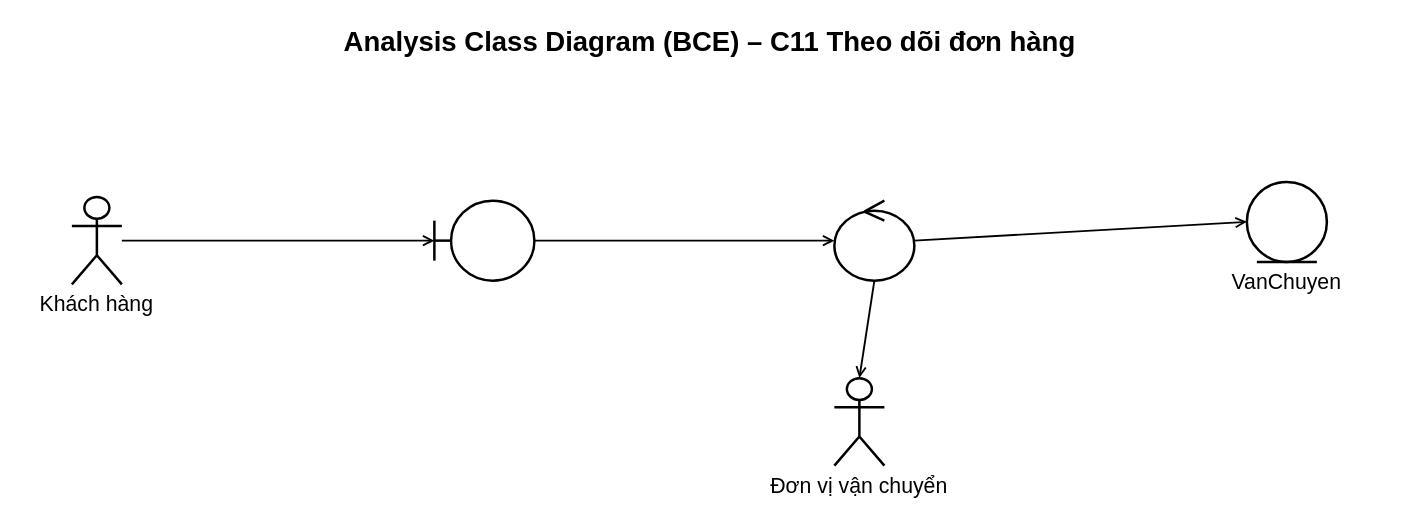
This 1418x520 diagram has some shape labels left out. The shapes that lost their labels are listed below. From the top down, each one's centre as x and y in pixels, then its label:
At (x=483, y=240): "TheoDoiDonHangPage".
At (x=873, y=240): "TheoDoiDonHangController".
